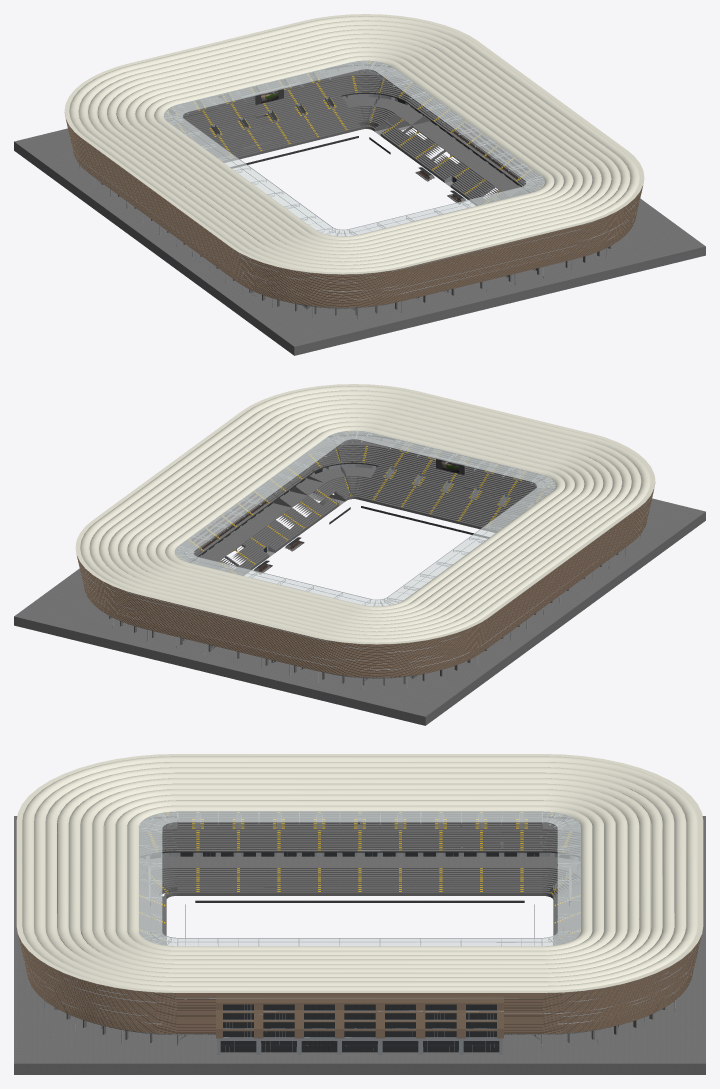
The model's file is shell.glb.
3 views of the same model, one above another, from view 1: azimuth 30°, elevation 25°; view 2: azimuth 150°, elevation 25°; view 3: azimuth 270°, elevation 25° (orthographic). The views are drawn at different scales.
Visible parts, largest first — view 1: Material2 (×6), Material3 (×4); view 2: Material2 (×5), Material3 (×4); view 3: Material2 (×6), Material3 (×3).
Boxes of the visible parts, x1,y1,x2,y2 form: Material2 (×6): (14, 14, 705, 355); Material3 (×4): (65, 41, 643, 313); Material2 (×5): (14, 384, 705, 725); Material3 (×4): (77, 408, 655, 683); Material2 (×6): (14, 754, 705, 1074); Material3 (×3): (18, 779, 701, 1054).
Size of the model in its own units: 188 by 29.15 by 222.
15 materials, 5 textured.
